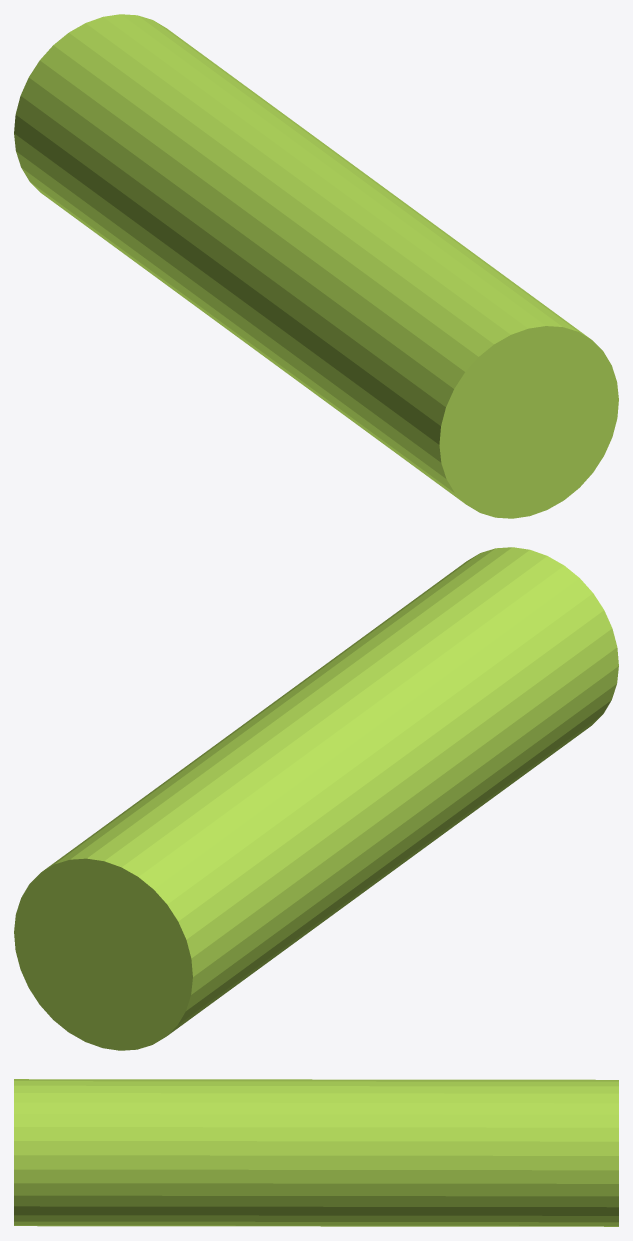
The model's file is ur10_e_link_2_coll_6.dae.
3 renders of one model, top to bottom at view 1: azimuth 30°, elevation 25°; view 2: azimuth 150°, elevation 25°; view 3: azimuth 270°, elevation 25°, orthographic. The views are drawn at different scales.
Parts seen in each view (by area): view 1: node; view 2: node; view 3: node.
Boxes of the visible parts, left/top/right/bottom form: node: left=14, top=14, right=618, bottom=518; node: left=14, top=547, right=618, bottom=1050; node: left=14, top=1079, right=618, bottom=1226.
Size of the model in its own units: 0.1084 by 0.1081 by 0.4435.
